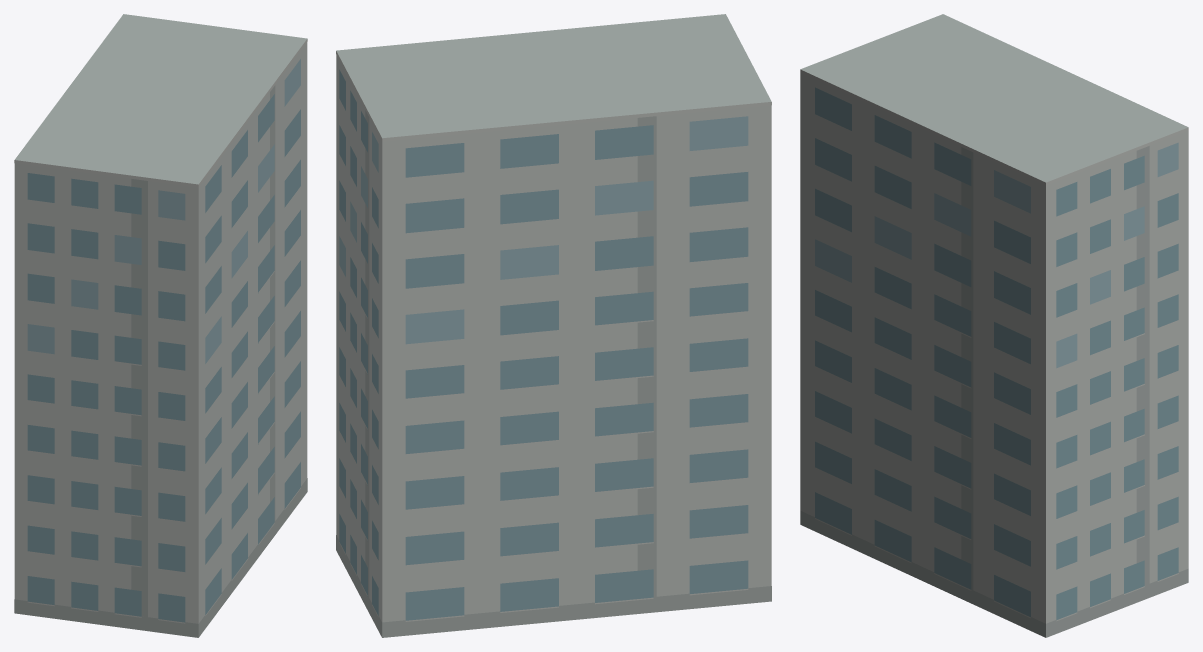
Rendered from residential-c2eafa83-3fa0-49fd-b1f2-8fec3def372c.glb.
3 views of the same model, side by side, from view 1: azimuth 30°, elevation 25°; view 2: azimuth 150°, elevation 25°; view 3: azimuth 270°, elevation 25° (orthographic). The views are drawn at different scales.
Visible parts, largest first — view 1: residential-c2eafa83-3fa0-49fd-b1f2-8fec3def372c.tmp; view 2: residential-c2eafa83-3fa0-49fd-b1f2-8fec3def372c.tmp; view 3: residential-c2eafa83-3fa0-49fd-b1f2-8fec3def372c.tmp.
Boxes of the visible parts, x1,y1,x2,y2 form: residential-c2eafa83-3fa0-49fd-b1f2-8fec3def372c.tmp: [14, 14, 307, 637]; residential-c2eafa83-3fa0-49fd-b1f2-8fec3def372c.tmp: [336, 14, 771, 637]; residential-c2eafa83-3fa0-49fd-b1f2-8fec3def372c.tmp: [800, 14, 1188, 637].
Size of the model in its own units: 27.01 by 34 by 26.3.
